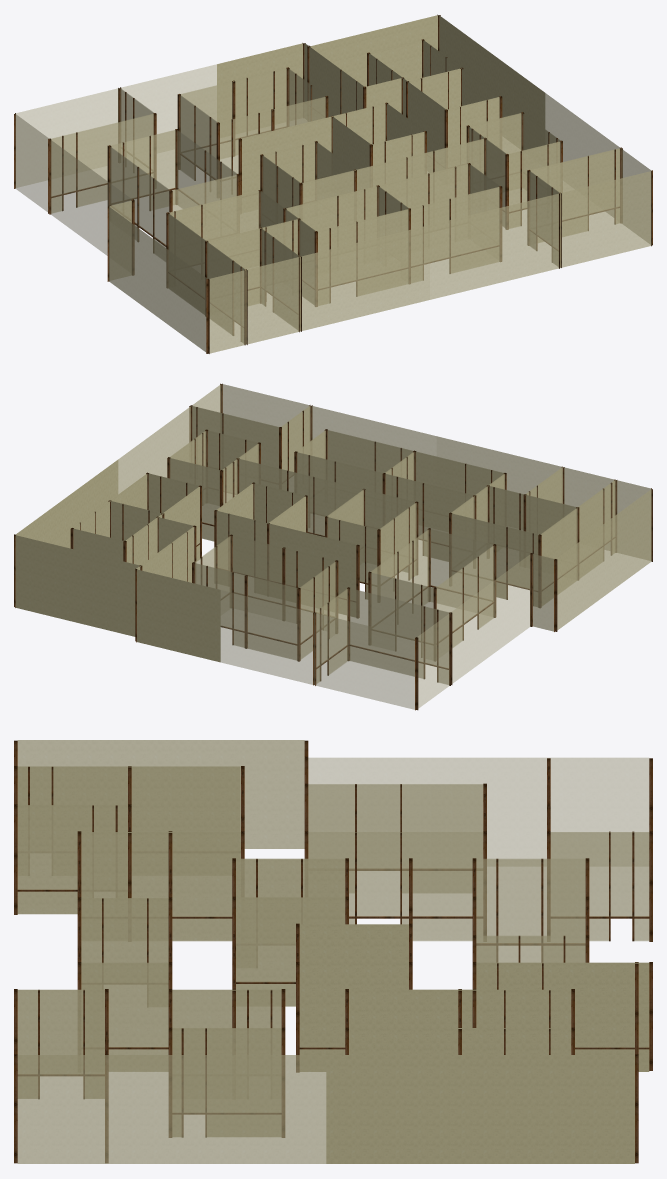
Rendered from Map_wall.fbx.
The picture shows the model from 3 angles, top to bottom: view 1: azimuth 30°, elevation 25°; view 2: azimuth 150°, elevation 25°; view 3: azimuth 270°, elevation 25°; orthographic projection. The views are drawn at different scales.
Visible parts, largest first — view 1: Map_Sec4_Wall_015, Map_Sec3_Wall_016, piller, Map_Sec2_Wall_014, Map_Sec3_Wall_001, Map_Sec2_Wall_009, Map_Sec3_Wall_005, Map_Sec4_Wall_020, Map_Sec3_Wall_009, Map_Sec2_Wall_012, Map_Sec1_Wall_025, Map_Sec4_Wall_016 (+66 smaller); view 2: piller, Map_Sec2_Wall_014, Map_Sec1_Wall_007, Map_Sec2_Wall_009, Map_Sec3_Wall_001, Map_Sec1_Wall_019, Map_Sec3_Wall_016, Map_Sec2_Wall_013, Map_Sec1_Wall_025, Map_Sec2_Wall_008, Map_Sec4_Wall_015, Map_Sec3_Wall_009 (+68 smaller); view 3: Map_Sec4_Wall_016, Map_Sec1_Wall_014, piller, Map_Sec2_Wall_009, Map_Sec3_Wall_001, Map_Sec2_Wall_018, Map_Sec2_Wall_019, Map_Sec3_Wall_010, Map_Sec3_Wall_004, Map_Sec3_Wall_011, Map_Sec3_Wall_009, Map_Sec4_Wall_013 (+28 smaller).
Boxes of the visible parts, <box> form: Map_Sec4_Wall_015: <box>430,171,651,299</box>; Map_Sec3_Wall_016: <box>209,225,429,353</box>; piller: <box>14,14,652,353</box>; Map_Sec2_Wall_014: <box>16,64,216,187</box>; Map_Sec3_Wall_001: <box>109,207,207,352</box>; Map_Sec2_Wall_009: <box>15,114,131,255</box>; Map_Sec3_Wall_005: <box>318,209,408,305</box>; Map_Sec4_Wall_020: <box>411,187,499,282</box>; Map_Sec3_Wall_009: <box>168,214,244,342</box>; Map_Sec2_Wall_012: <box>51,114,153,213</box>; Map_Sec1_Wall_025: <box>217,43,302,122</box>; Map_Sec4_Wall_016: <box>545,93,650,243</box>; piller: <box>14,383,652,710</box>; Map_Sec2_Wall_014: <box>221,590,414,709</box>; Map_Sec1_Wall_007: <box>15,535,139,636</box>; Map_Sec2_Wall_009: <box>417,554,530,707</box>; Map_Sec3_Wall_001: <box>556,489,651,630</box>; Map_Sec1_Wall_019: <box>216,511,356,617</box>; Map_Sec3_Wall_016: <box>436,436,650,560</box>; Map_Sec2_Wall_013: <box>350,589,448,684</box>; Map_Sec1_Wall_025: <box>137,569,220,662</box>; Map_Sec2_Wall_008: <box>195,563,296,660</box>; Map_Sec4_Wall_015: <box>222,384,436,456</box>; Map_Sec3_Wall_009: <box>541,480,615,605</box>; Map_Sec4_Wall_016: <box>17,1055,326,1163</box>; Map_Sec1_Wall_014: <box>326,1055,634,1163</box>; piller: <box>14,740,652,1163</box>; Map_Sec2_Wall_009: <box>308,758,648,859</box>; Map_Sec3_Wall_001: <box>17,740,304,848</box>; Map_Sec2_Wall_018: <box>308,832,482,940</box>; Map_Sec2_Wall_019: <box>308,832,482,940</box>; Map_Sec3_Wall_010: <box>81,832,240,941</box>; Map_Sec3_Wall_004: <box>81,832,240,939</box>; Map_Sec3_Wall_011: <box>17,767,240,831</box>; Map_Sec3_Wall_009: <box>17,766,240,831</box>; Map_Sec4_Wall_013: <box>172,1028,281,1136</box>.
Bounding box in the file's own units: 6242 × 1001 × 5318.
